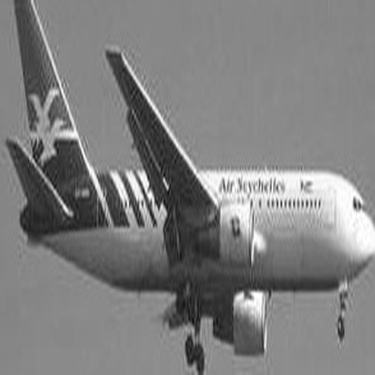airplane: (4, 2, 369, 369)
